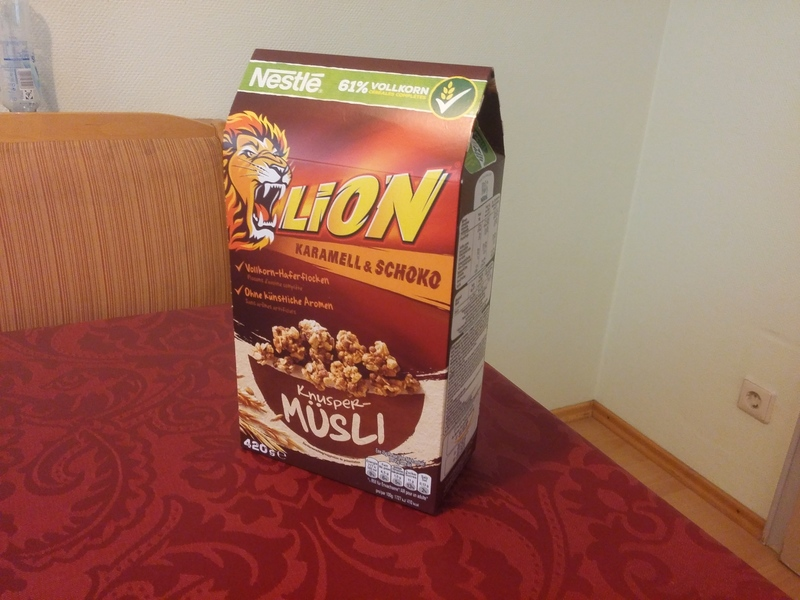cereals: (222, 47, 506, 516)
